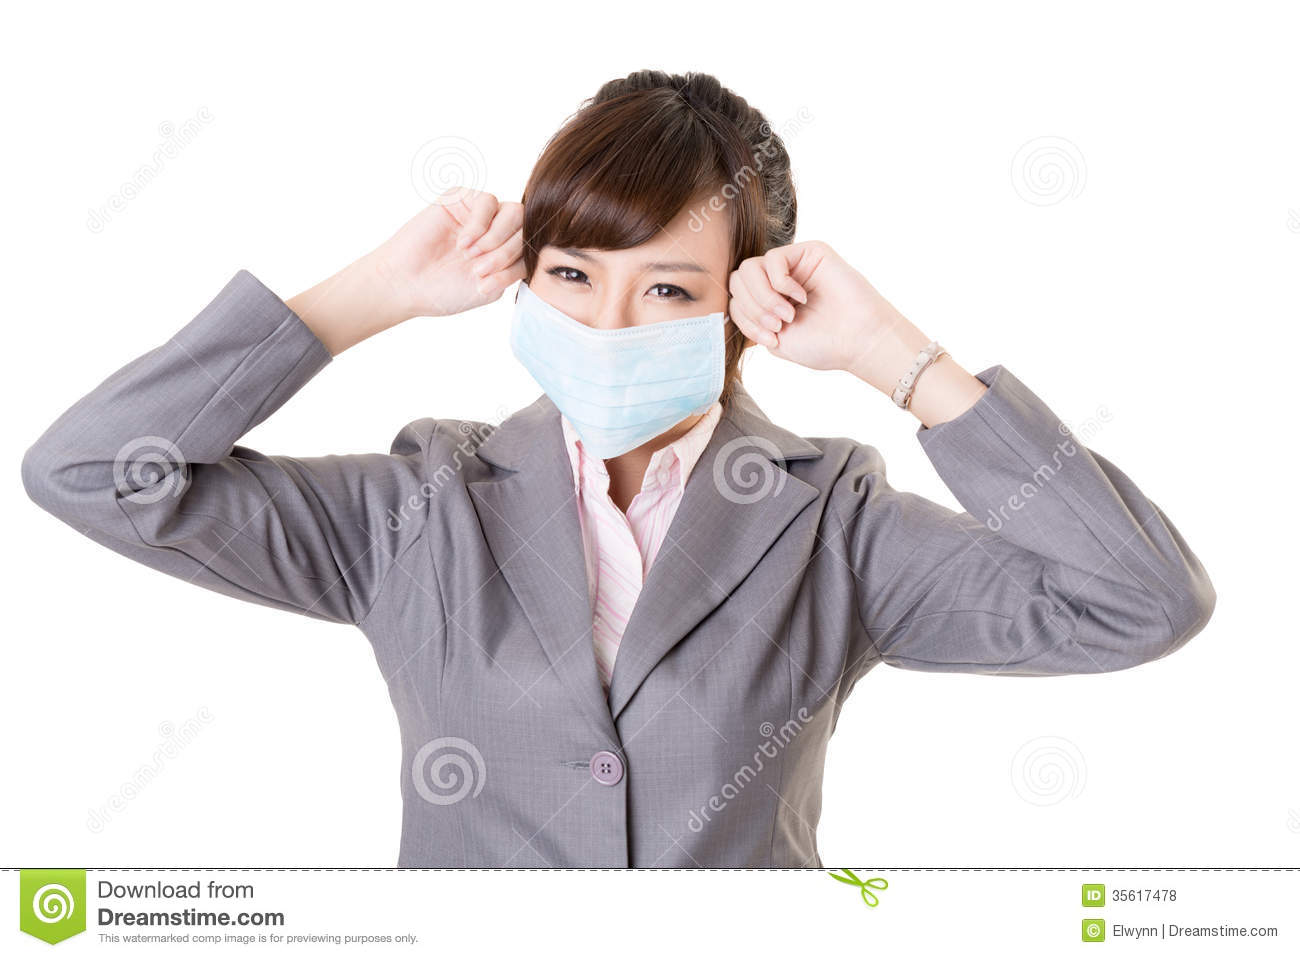mask: (504, 295, 733, 460)
